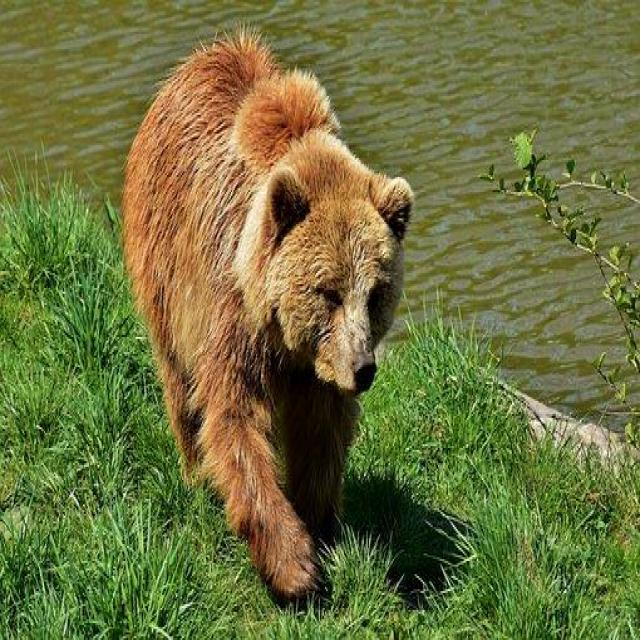Bear: (123, 30, 414, 612)
